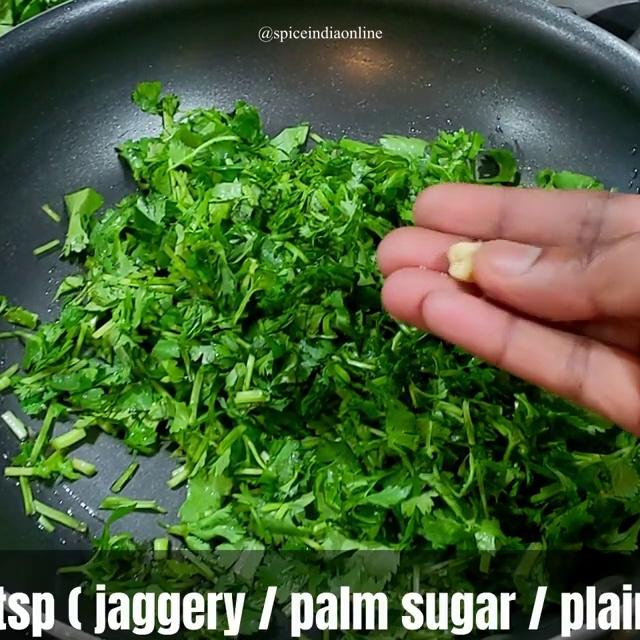cilantro: (83, 144, 370, 523)
